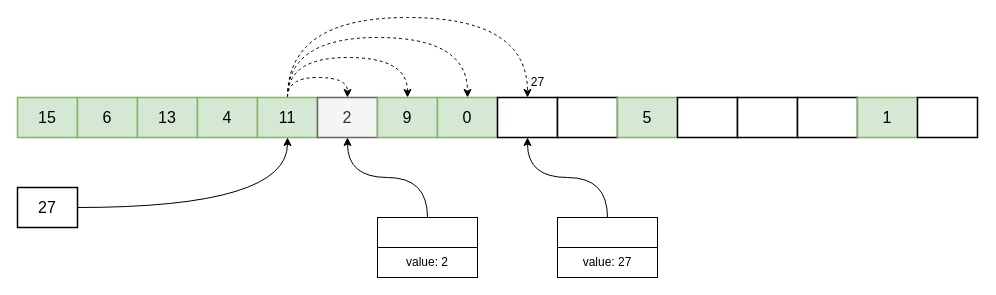
This 996x295 diagram has some shape labels left out. The centre of each missing label's shape, as x and y in pixels:
"key: null" belongs at (x=427, y=232).
"key: ThreadLocal" belongs at (x=607, y=232).
